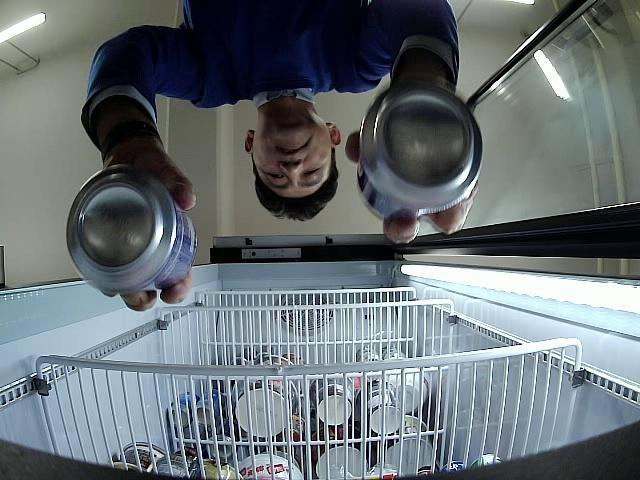14_welchsGrape: (356, 83, 482, 225), (66, 164, 196, 295)
